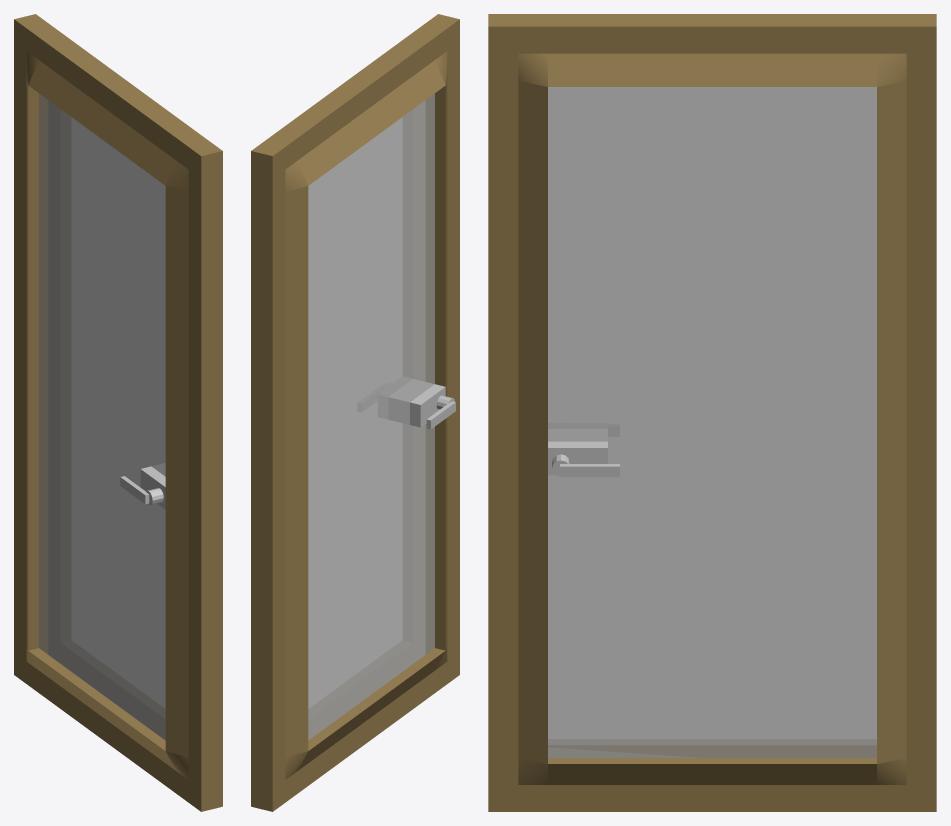
The model's file is JapaneseBuildingModel05Door.obj.
The picture shows the model from 3 angles, left to right: view 1: azimuth 30°, elevation 25°; view 2: azimuth 150°, elevation 25°; view 3: azimuth 270°, elevation 25°; orthographic projection. The views are drawn at different scales.
Visible parts, largest first — view 1: JapaneseBuildingModel05Door; view 2: JapaneseBuildingModel05Door; view 3: JapaneseBuildingModel05Door.
Boxes of the visible parts, left/top/right/bottom form: JapaneseBuildingModel05Door: left=14, top=14, right=222, bottom=811; JapaneseBuildingModel05Door: left=251, top=14, right=459, bottom=811; JapaneseBuildingModel05Door: left=488, top=14, right=936, bottom=811.
Bounding box in the file's own units: 0.34 × 2.9 × 1.5.
